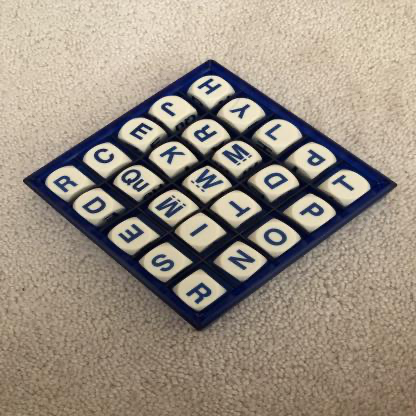c: (85, 145, 125, 171)
d: (75, 191, 117, 221), (255, 169, 295, 196)
e: (112, 222, 153, 252), (124, 120, 161, 146)
h: (192, 74, 231, 102)
i: (180, 217, 220, 247)
j: (155, 98, 192, 122)
k: (155, 144, 193, 171)
l: (259, 122, 298, 150)
m: (153, 194, 193, 223), (218, 144, 257, 171)
n: (221, 245, 262, 276)
o: (257, 224, 296, 252)
p: (293, 145, 335, 173), (293, 198, 332, 226)
qu: (117, 168, 159, 197)
r: (177, 275, 220, 309), (48, 168, 89, 197), (188, 121, 226, 148)
s: (144, 249, 186, 279)
t: (326, 172, 367, 203), (217, 195, 255, 222)
w: (188, 170, 228, 199)
y: (225, 99, 261, 125)
